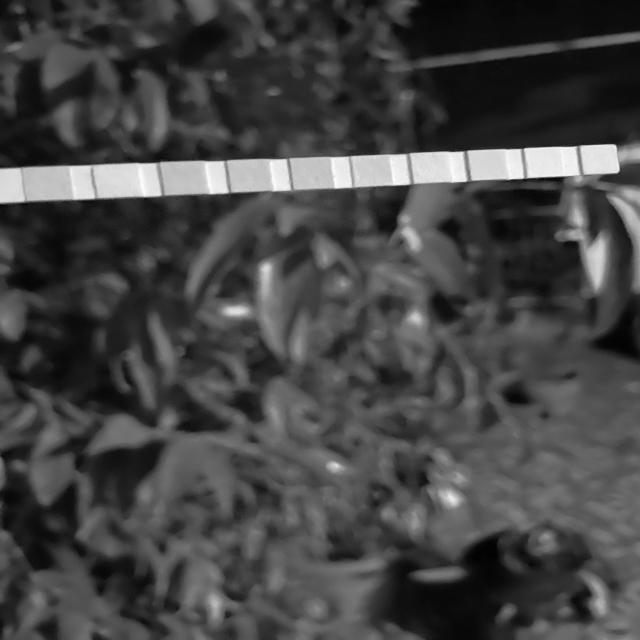Bilirubin: (96, 166, 139, 197)
Blood: (293, 158, 330, 188)
Glucose: (26, 168, 70, 200)
Ketone: (162, 163, 205, 194)
Leukocytes: (583, 146, 615, 173)
Nitrite: (527, 148, 560, 177)
Protein: (413, 153, 449, 182)
SpGravity: (230, 160, 269, 192)
Urobilinogen: (471, 150, 505, 179)
background: (0, 0, 640, 640)
pH: (354, 157, 389, 185)
strip: (0, 144, 620, 203)
